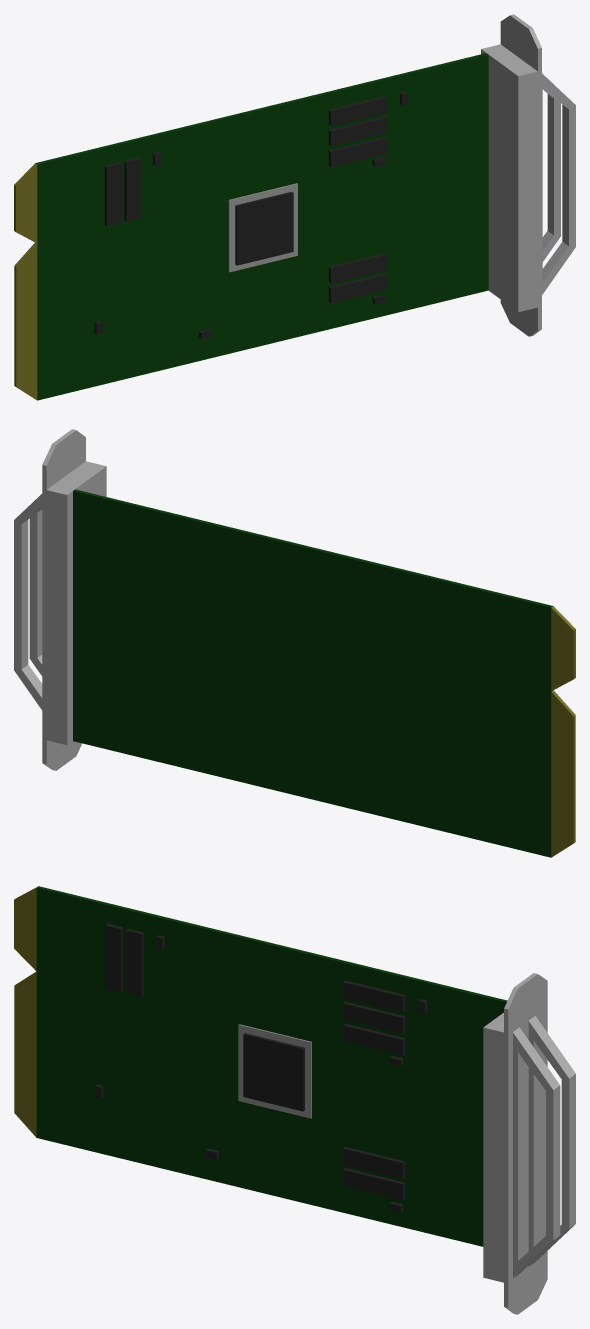
The model's file is ComputerPlatine.fbx.
3 renders of one model, top to bottom at view 1: azimuth 30°, elevation 25°; view 2: azimuth 150°, elevation 25°; view 3: azimuth 330°, elevation 25°, orthographic. The views are drawn at different scales.
Parts seen in each view (by area): view 1: Cube.033, Cube.034, Cube.040, Cube.041, Cube.036, Cube.037, Cube.039, Cube.035, Cube.038, Cube.042; view 2: Cube.033; view 3: Cube.033, Cube.034, Cube.040, Cube.039, Cube.038, Cube.035, Cube.036, Cube.037, Cube.041, Cube.042.
Boxes of the visible parts, left/top/right/bottom form: Cube.033: left=14, top=14, right=575, bottom=400; Cube.034: left=235, top=191, right=293, bottom=265; Cube.040: left=228, top=183, right=297, bottom=272; Cube.041: left=104, top=162, right=121, bottom=226; Cube.036: left=328, top=116, right=387, bottom=146; Cube.037: left=328, top=137, right=387, bottom=166; Cube.039: left=328, top=273, right=387, bottom=303; Cube.035: left=328, top=96, right=387, bottom=126; Cube.038: left=328, top=253, right=387, bottom=283; Cube.042: left=124, top=157, right=140, bottom=221; Cube.033: left=14, top=429, right=575, bottom=857; Cube.033: left=14, top=886, right=575, bottom=1314; Cube.034: left=243, top=1033, right=304, bottom=1111; Cube.040: left=238, top=1024, right=311, bottom=1118; Cube.039: left=343, top=1168, right=405, bottom=1200; Cube.038: left=343, top=1147, right=405, bottom=1178; Cube.035: left=343, top=980, right=405, bottom=1012; Cube.036: left=343, top=1002, right=405, bottom=1033; Cube.037: left=343, top=1023, right=405, bottom=1055; Cube.041: left=105, top=924, right=122, bottom=991; Cube.042: left=126, top=929, right=143, bottom=996.
Size of the model in its own units: 237 by 130 by 28.55.
